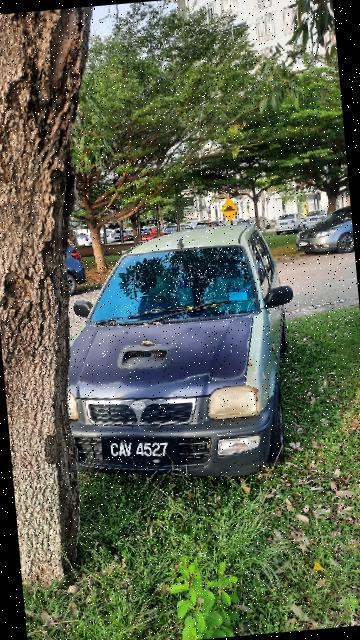License_Plate: (97, 425, 186, 474)
car: (46, 218, 313, 496)
